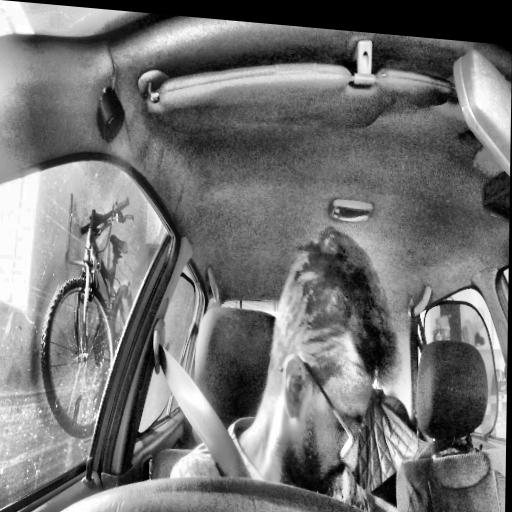drowsy: (263, 222, 402, 512)
